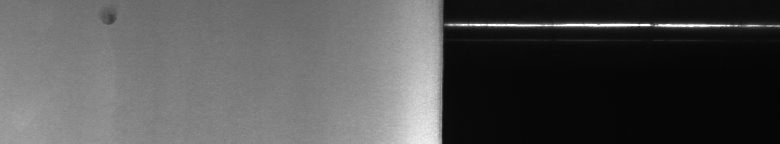fi: (100, 4, 120, 32)
